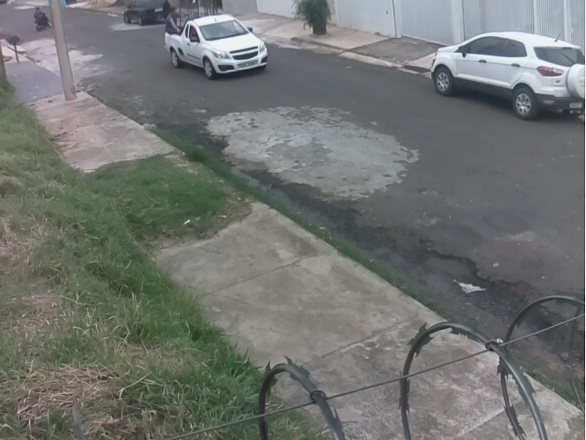person: (164, 7, 183, 35)
